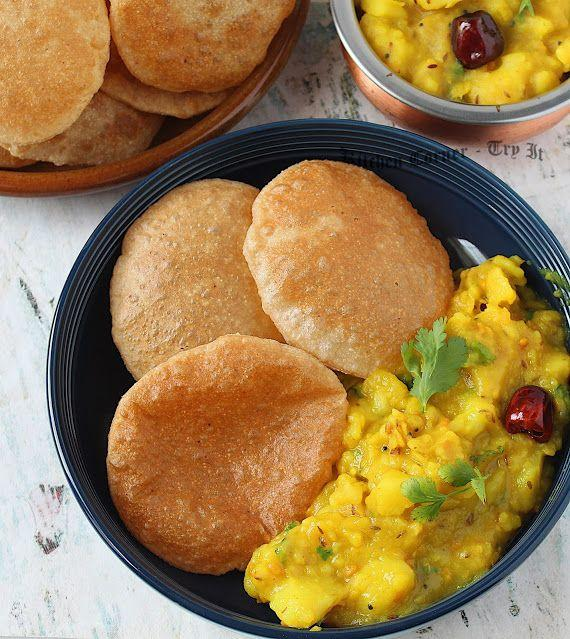puri: (110, 175, 460, 367), (0, 0, 290, 170), (108, 375, 363, 532)
